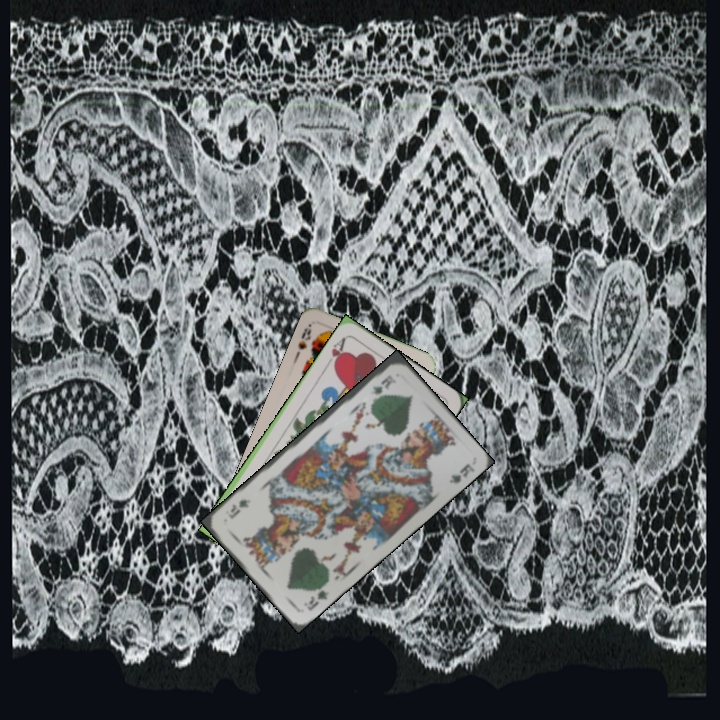GK: (300, 586, 332, 613), (367, 371, 397, 397)
HA: (322, 333, 348, 370)
S8: (294, 320, 314, 352)
